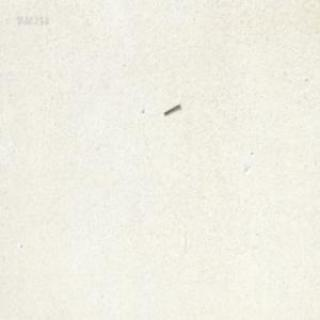Bolttrack_idkeyframe: (162, 100, 179, 113)
